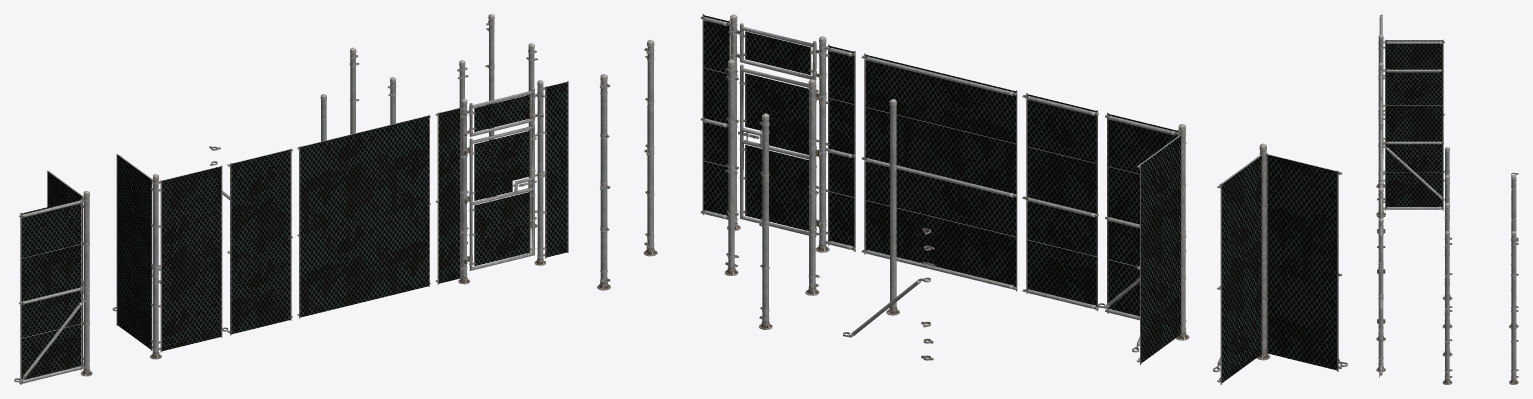
The model's file is modular_chainlink_fence.glb.
The picture shows the model from 3 angles, left to right: view 1: azimuth 30°, elevation 25°; view 2: azimuth 150°, elevation 25°; view 3: azimuth 270°, elevation 25°; orthographic projection. The views are drawn at different scales.
Visible parts, largest first — view 1: modular_chainlink_fence_door_gate, modular_chainlink_fence_door_latch; view 2: modular_chainlink_fence_door_gate, modular_chainlink_fence_door_latch; view 3: modular_chainlink_fence_door_gate, modular_chainlink_fence_door_latch.
Boxes of the visible parts, x1,y1,x2,y2 form: modular_chainlink_fence_door_gate: (21, 82, 567, 381); modular_chainlink_fence_door_latch: (14, 14, 568, 384); modular_chainlink_fence_door_gate: (704, 15, 1336, 382); modular_chainlink_fence_door_latch: (597, 14, 1347, 384); modular_chainlink_fence_door_gate: (1386, 40, 1442, 207); modular_chainlink_fence_door_latch: (1376, 14, 1518, 384).
Size of the model in its own units: 8.12 by 2.52 by 2.15.
Materials: 2 (2 with a texture image).
